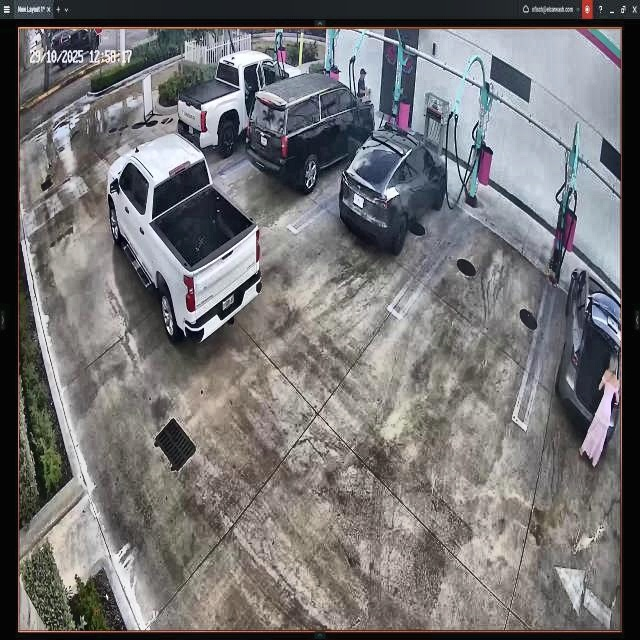Car: (107, 132, 262, 343), (247, 71, 375, 189), (338, 125, 446, 249), (177, 51, 301, 156)
